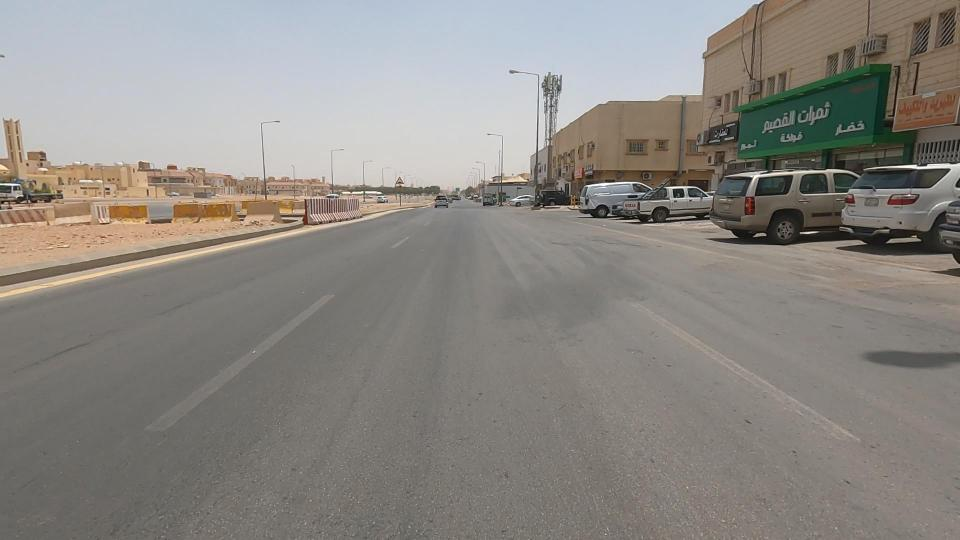CONSTRUCTION_ROAD: (0, 166, 223, 257), (251, 171, 392, 243)
